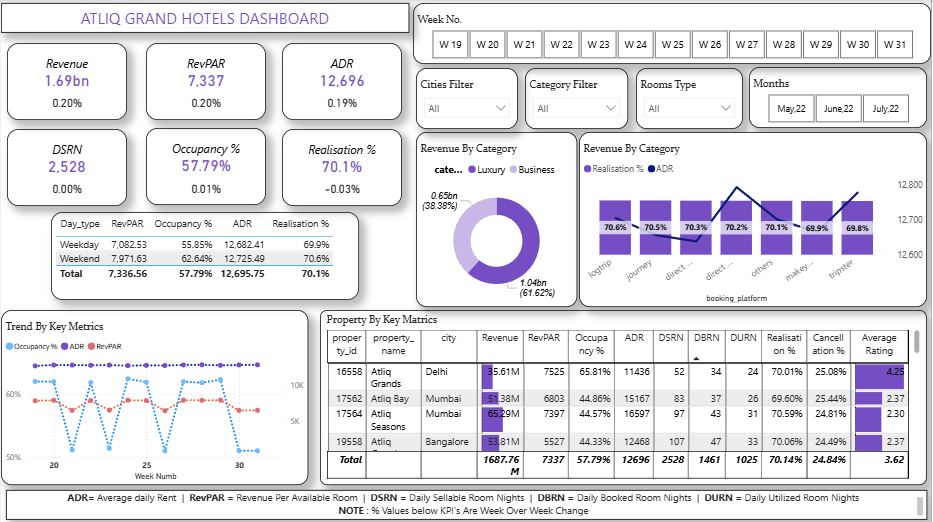

Layout of this report page (visuals, bound fields, positions):
{"tool":"powerbi","page":{"name":"Page 1","canvas":[1280,720],"ordinal":0},"visuals":[{"type":"tableEx","title":"Property By Key Matrics","fields":{"Values":["dim_hotels.property_id","dim_hotels.property_name","dim_hotels.city","Key_measures.Revenue","Key_measures.RevPAR(Revenue Per Available Room)","Key_measures.Occupancy %","Key_measures.ADR(Average daily rate)","Key_measures.DSRN(sellable)","Key_measures.DBRN(Daily Booked Night Rooms)","Key_measures.DURN","Key_measures.Realisation %","Key_measures.Cancellation %"]},"box":[439.1,426.7,835.4,240.9],"z":0},{"type":"slicer","title":"Category Filter","fields":{"Values":["dim_hotels.category"]},"box":[721.2,93.6,141.8,84],"z":1000},{"type":"slicer","title":"Rooms Type","fields":{"Values":["dim_rooms.room_class"]},"box":[874,93.6,147.3,84],"z":2000},{"type":"slicer","title":"Months","fields":{"Values":["dim_date.mmm yy"]},"box":[1029.5,92.2,245,84],"z":3000},{"type":"slicer","title":"Week No.","fields":{"Values":["dim_date.week no"]},"box":[567.1,4.1,712.9,84],"z":4000},{"type":"cardVisual","fields":{"Data":["Key_measures.Revenue"]},"box":[8.3,59.2,165,106],"z":5000},{"type":"donutChart","title":"Revenue By Category","fields":{"Y":["Key_measures.Revenue"],"Category":["dim_hotels.category"]},"box":[571.2,181.7,221.6,240.9],"z":6000},{"type":"lineChart","title":"Trend By Key Metrics","fields":{"Y":["Key_measures.Occupancy %"],"Y2":["Key_measures.ADR","Key_measures.RevPAR"],"Category":["dim_date.Week Numb"]},"box":[0,426.7,422.5,240.9],"z":7000},{"type":"lineStackedColumnComboChart","title":"Revenue By Category","fields":{"Category":["fact_bookings.booking_platform"],"Y":["Key_measures.Realisation %"],"Y2":["Key_measures.ADR(Average daily rate)"]},"box":[795.5,181.7,479,240.9],"z":8000},{"type":"textbox","box":[6.9,674.4,1267.6,41.3],"z":9000},{"type":"textbox","box":[0,4.1,561.5,41.3],"z":10000},{"type":"slicer","title":"Cities Filter","fields":{"Values":["dim_hotels.city"]},"box":[571.2,93.6,140,84],"z":11000},{"type":"card","fields":{"Values":["Key_measures.Revenue WOW Change %"]},"box":[28.9,112.9,123.9,60.6],"z":12000},{"type":"tableEx","fields":{"Values":["dim_date.Day_type","Key_measures.RevPAR","Key_measures.Occupancy %","Key_measures.ADR","Key_measures.Realisation %"]},"box":[68.8,291.8,423.9,121.1],"z":13000},{"type":"cardVisual","fields":{"Data":["Key_measures.DSRN"]},"box":[8.3,177.5,165,106],"z":14000},{"type":"cardVisual","fields":{"Data":["Key_measures.Occupancy %"]},"box":[199.6,176.2,165.2,106],"z":15000},{"type":"cardVisual","fields":{"Data":["Key_measures.Realisation %"]},"box":[386.8,177.5,165.2,106],"z":16000},{"type":"cardVisual","fields":{"Data":["Key_measures.RevPAR"]},"box":[199.6,59.2,165.2,106],"z":17000},{"type":"cardVisual","fields":{"Data":["Key_measures.ADR"]},"box":[386.8,59.2,165,106],"z":18000},{"type":"card","fields":{"Values":["Key_measures.Realisation WoW change %"]},"box":[407.4,231.2,123.9,60.6],"z":19000},{"type":"card","fields":{"Values":["Key_measures.Occupancy WoW change %"]},"box":[220.2,231.2,123.9,60.6],"z":20000},{"type":"card","fields":{"Values":["Key_measures.DSRN WoW change %"]},"box":[28.9,231.2,123.9,60.6],"z":21000},{"type":"card","fields":{"Values":["Key_measures.ADR WoW change %"]},"box":[407.4,112.9,123.9,60.6],"z":22000},{"type":"card","fields":{"Values":["Key_measures.Revpar WoW change %"]},"box":[220.2,112.9,123.9,60.6],"z":23000}]}

Visuals, with their boxes in screenshot pixels (x1, y1, x2, y2), scaled from the page's 1280x720 canvas onto the 933x522 screenshot:
"Property By Key Matrics" tableEx: box(320, 309, 929, 484)
"Category Filter" slicer: box(526, 68, 629, 129)
"Rooms Type" slicer: box(637, 68, 744, 129)
"Months" slicer: box(750, 67, 929, 128)
"Week No." slicer: box(413, 3, 932, 64)
cardVisual - Key_measures.Revenue: box(6, 43, 126, 120)
"Revenue By Category" donutChart: box(416, 132, 578, 306)
"Trend By Key Metrics" lineChart: box(0, 309, 308, 484)
"Revenue By Category" lineStackedColumnComboChart: box(580, 132, 929, 306)
textbox: box(5, 489, 929, 519)
textbox: box(0, 3, 409, 33)
"Cities Filter" slicer: box(416, 68, 518, 129)
card - Key_measures.Revenue WOW Change %: box(21, 82, 111, 126)
tableEx - dim_date.Day_type x Key_measures.RevPAR: box(50, 212, 359, 299)
cardVisual - Key_measures.DSRN: box(6, 129, 126, 206)
cardVisual - Key_measures.Occupancy %: box(145, 128, 266, 205)
cardVisual - Key_measures.Realisation %: box(282, 129, 402, 206)
cardVisual - Key_measures.RevPAR: box(145, 43, 266, 120)
cardVisual - Key_measures.ADR: box(282, 43, 402, 120)
card - Key_measures.Realisation WoW change %: box(297, 168, 387, 212)
card - Key_measures.Occupancy WoW change %: box(161, 168, 251, 212)
card - Key_measures.DSRN WoW change %: box(21, 168, 111, 212)
card - Key_measures.ADR WoW change %: box(297, 82, 387, 126)
card - Key_measures.Revpar WoW change %: box(161, 82, 251, 126)
